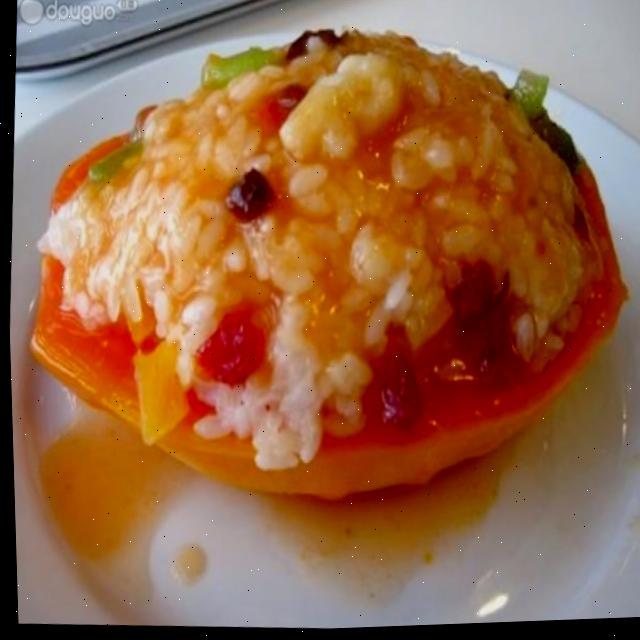米饭主食: (1, 4, 640, 640)
